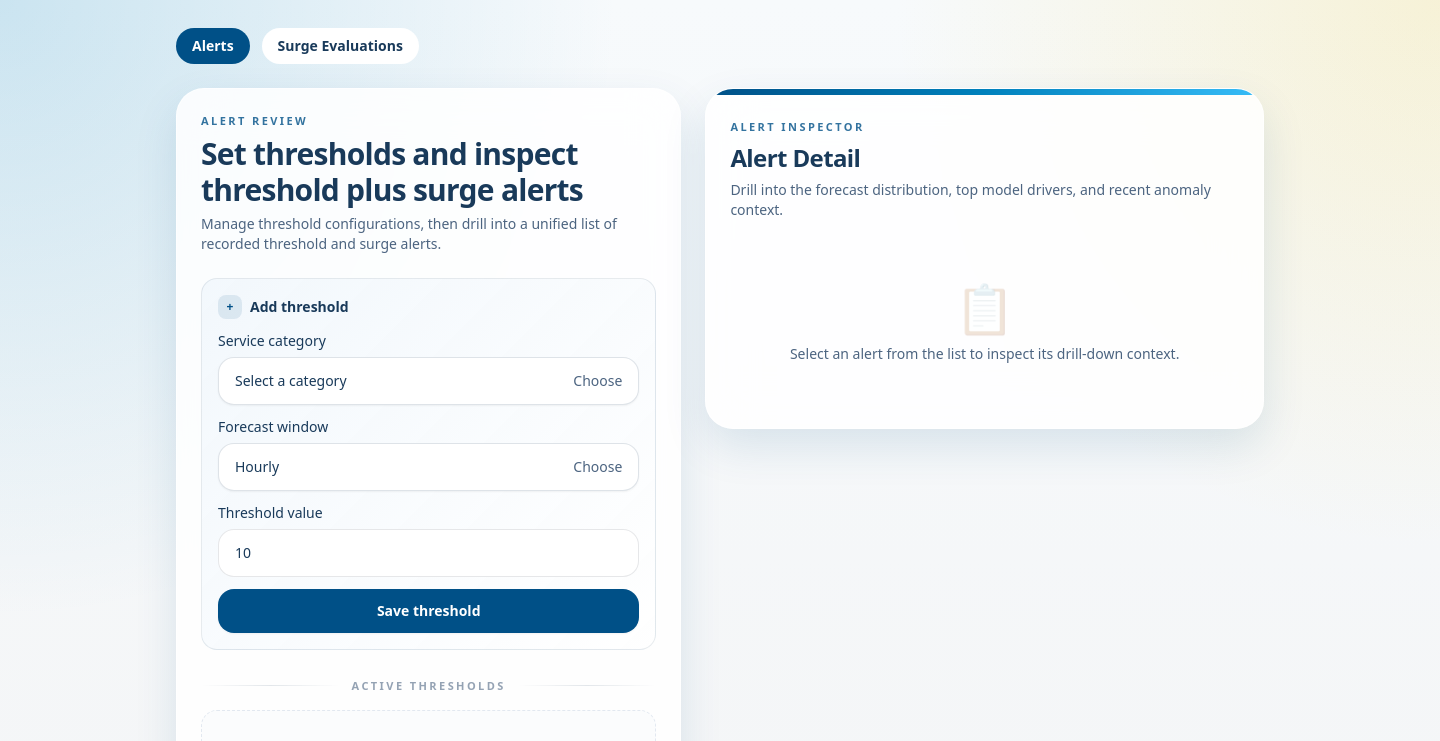
Test: AlertReviewPage extra coverage › shows threshold validation errors for writers
The image size is (1440, 741).
Expected: the text "+ Add threshold" is shown, [218,294,349,318]
Click the button "Save threshold" at (429, 610), box [218,588,639,632]
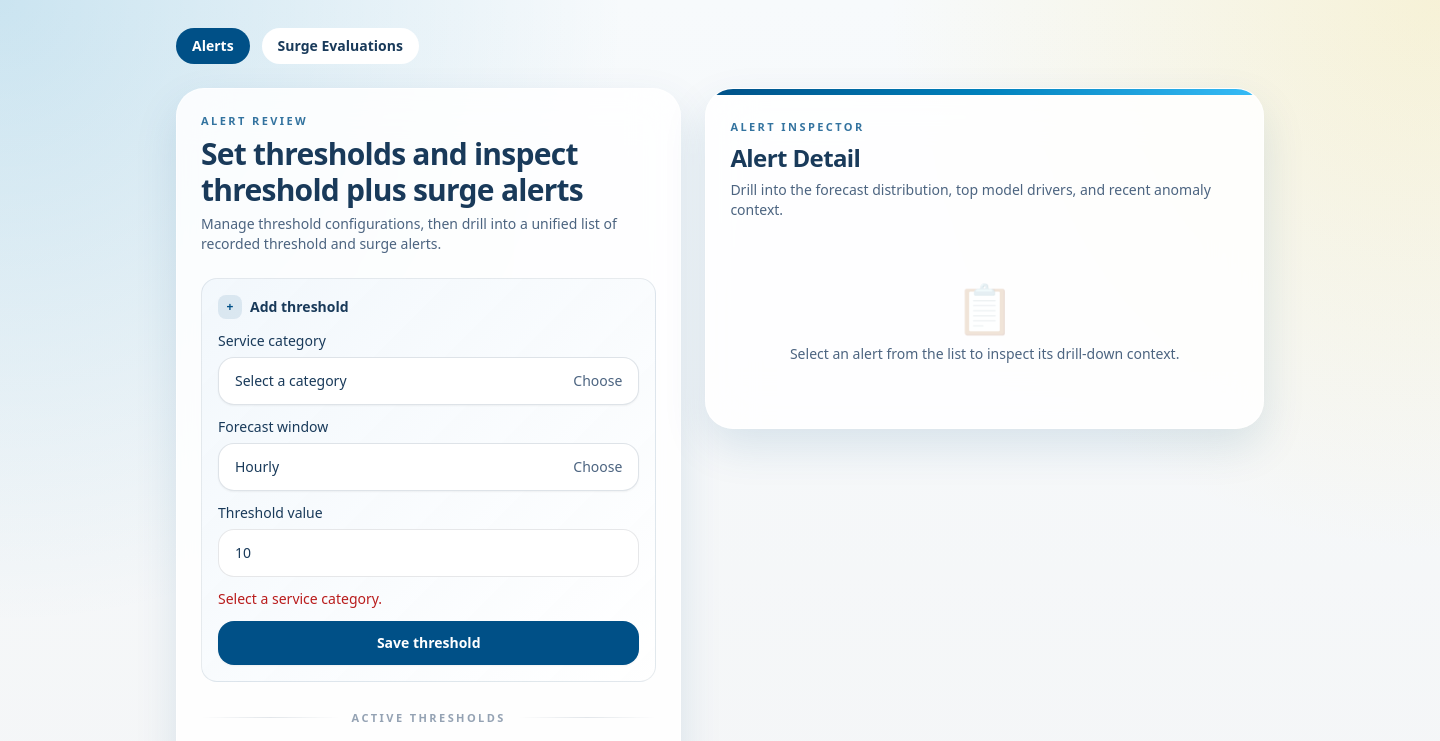
Now the text "Select a service category." is shown, box [218,588,382,608]
Click the button with aria-label "service category" at (291, 380), box [218,356,639,404]
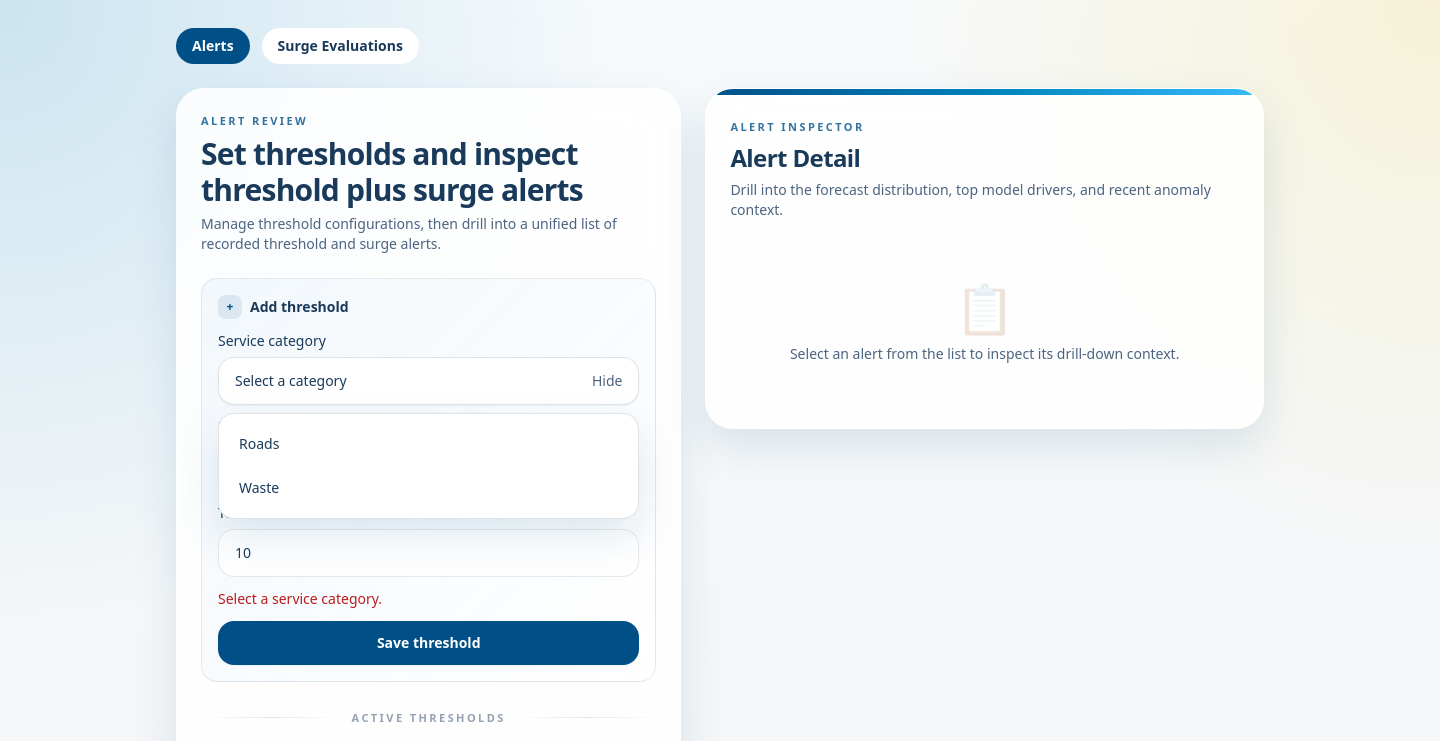
Click the button "Roads" at (259, 443), box [231,426,626,462]
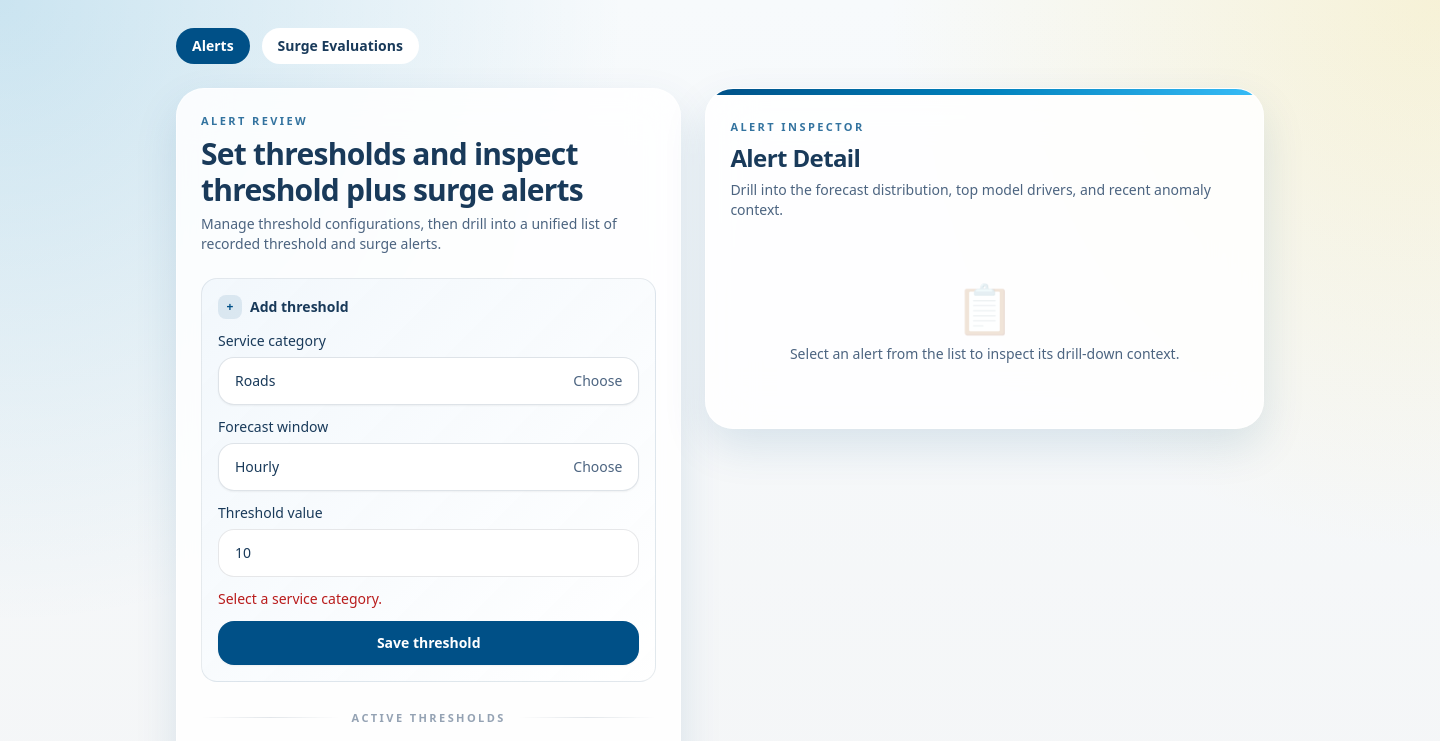
Replace the text in the number field labelled "Threshold value" with "0" at (429, 552), box [218,528,639,576]
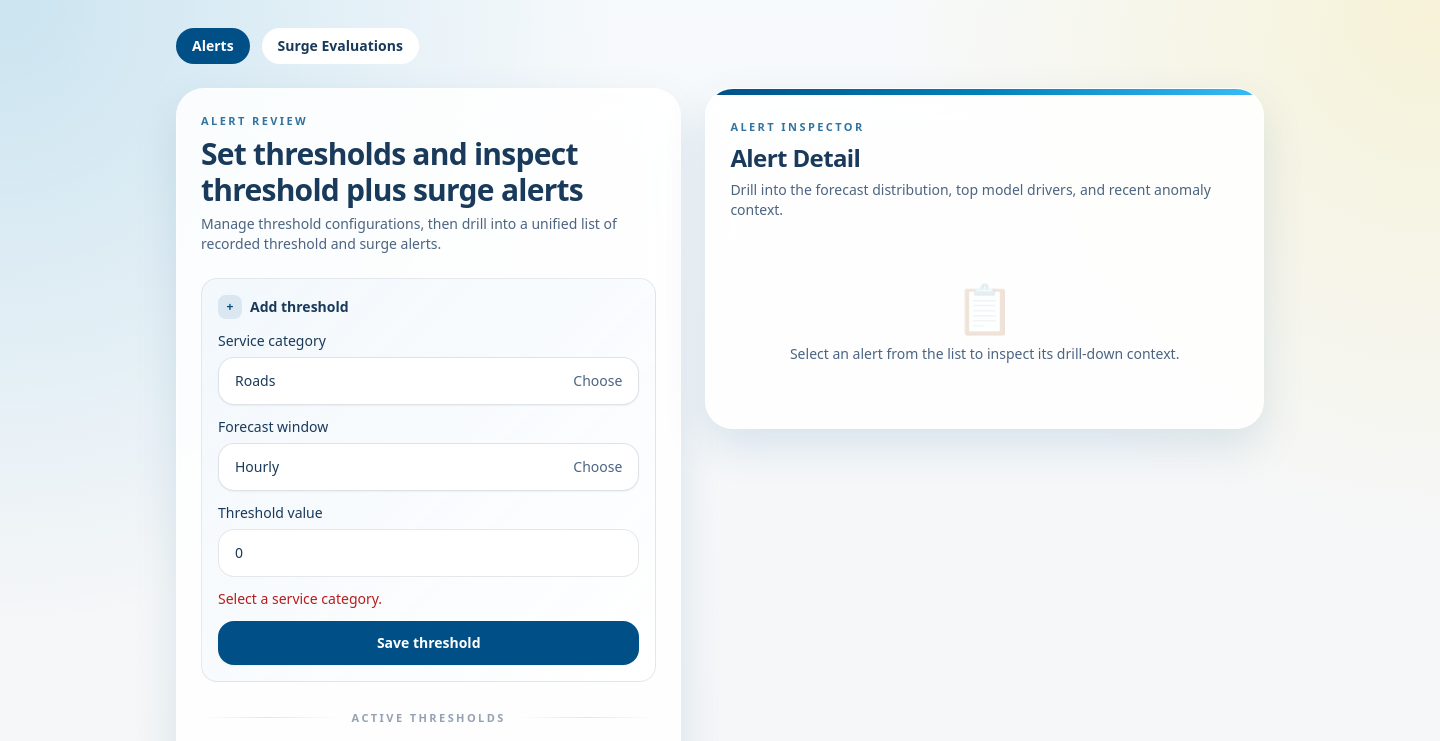
Click the button "Save threshold" at (429, 642), box [218,620,639,664]
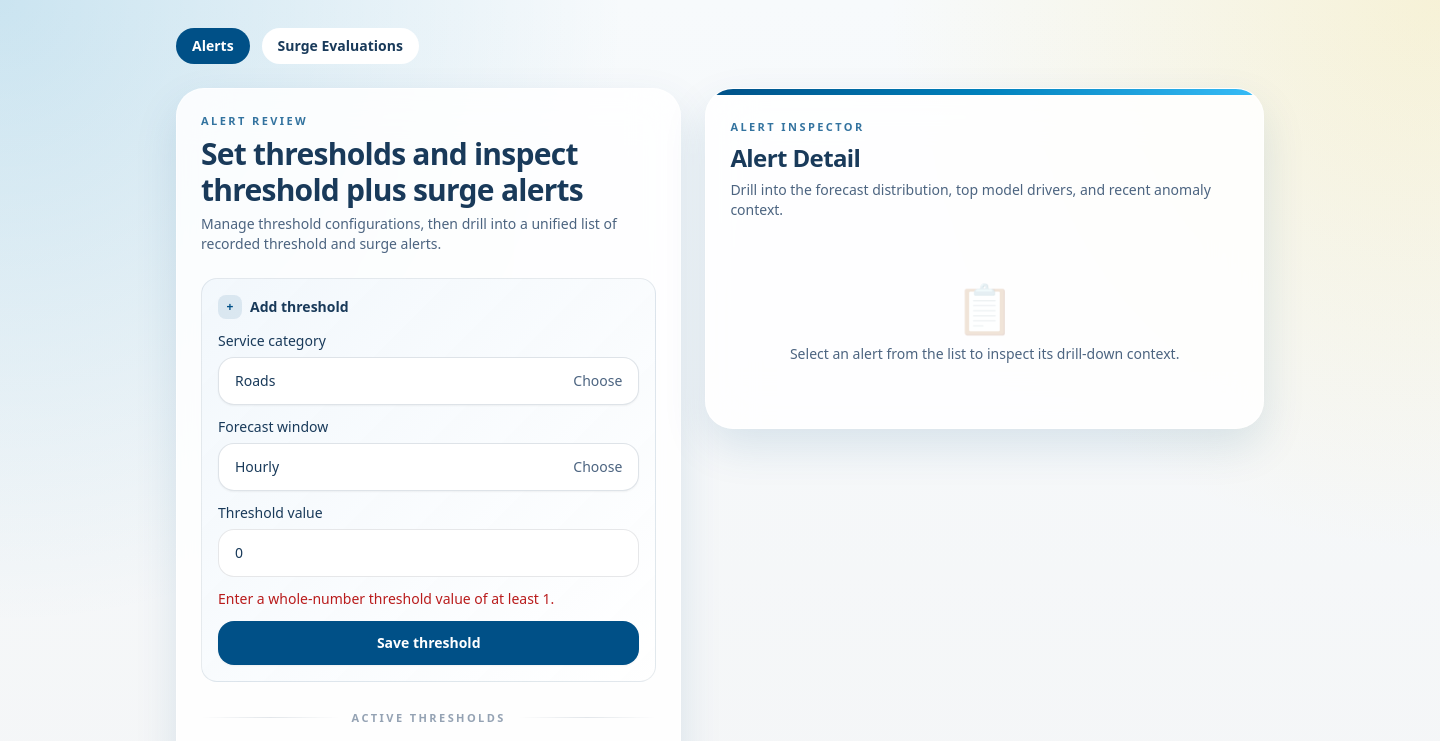
Now the text "Enter a whole-number threshold value of at least 1." is shown, box [218,588,554,608]
